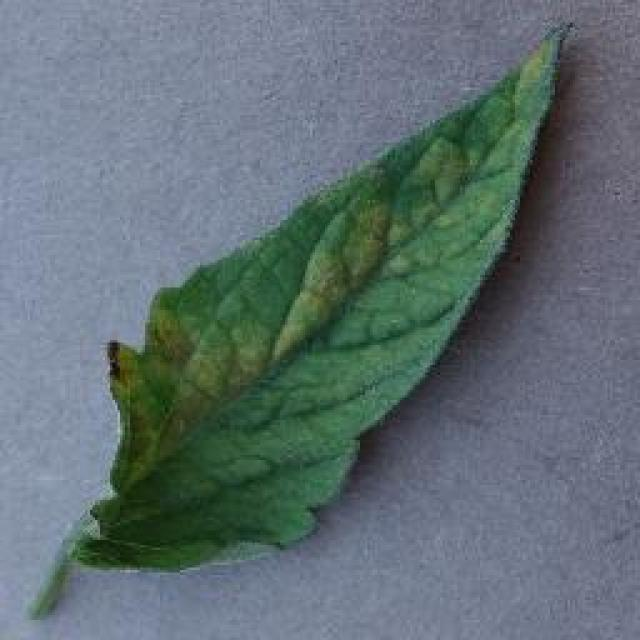Tomato mold leaf: (79, 18, 570, 575)
